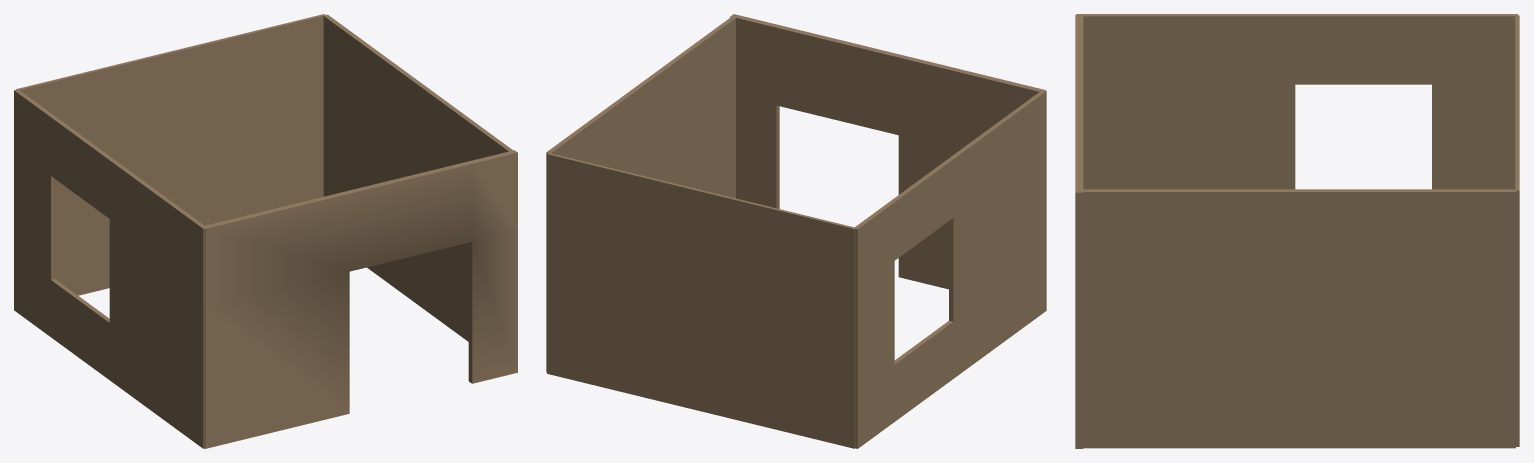
3 views of the same model, side by side, from view 1: azimuth 30°, elevation 25°; view 2: azimuth 150°, elevation 25°; view 3: azimuth 270°, elevation 25° (orthographic). The views are drawn at different scales.
Parts seen in each view (by area): view 1: QD-清墙; view 2: QD-清墙; view 3: QD-清墙.
Boxes of the visible parts, left/top/right/bottom form: QD-清墙: left=14, top=14, right=517, bottom=448; QD-清墙: left=546, top=14, right=1046, bottom=448; QD-清墙: left=1075, top=14, right=1519, bottom=448.
Size of the model in its own units: 5.34 by 5.61 by 3.58.
